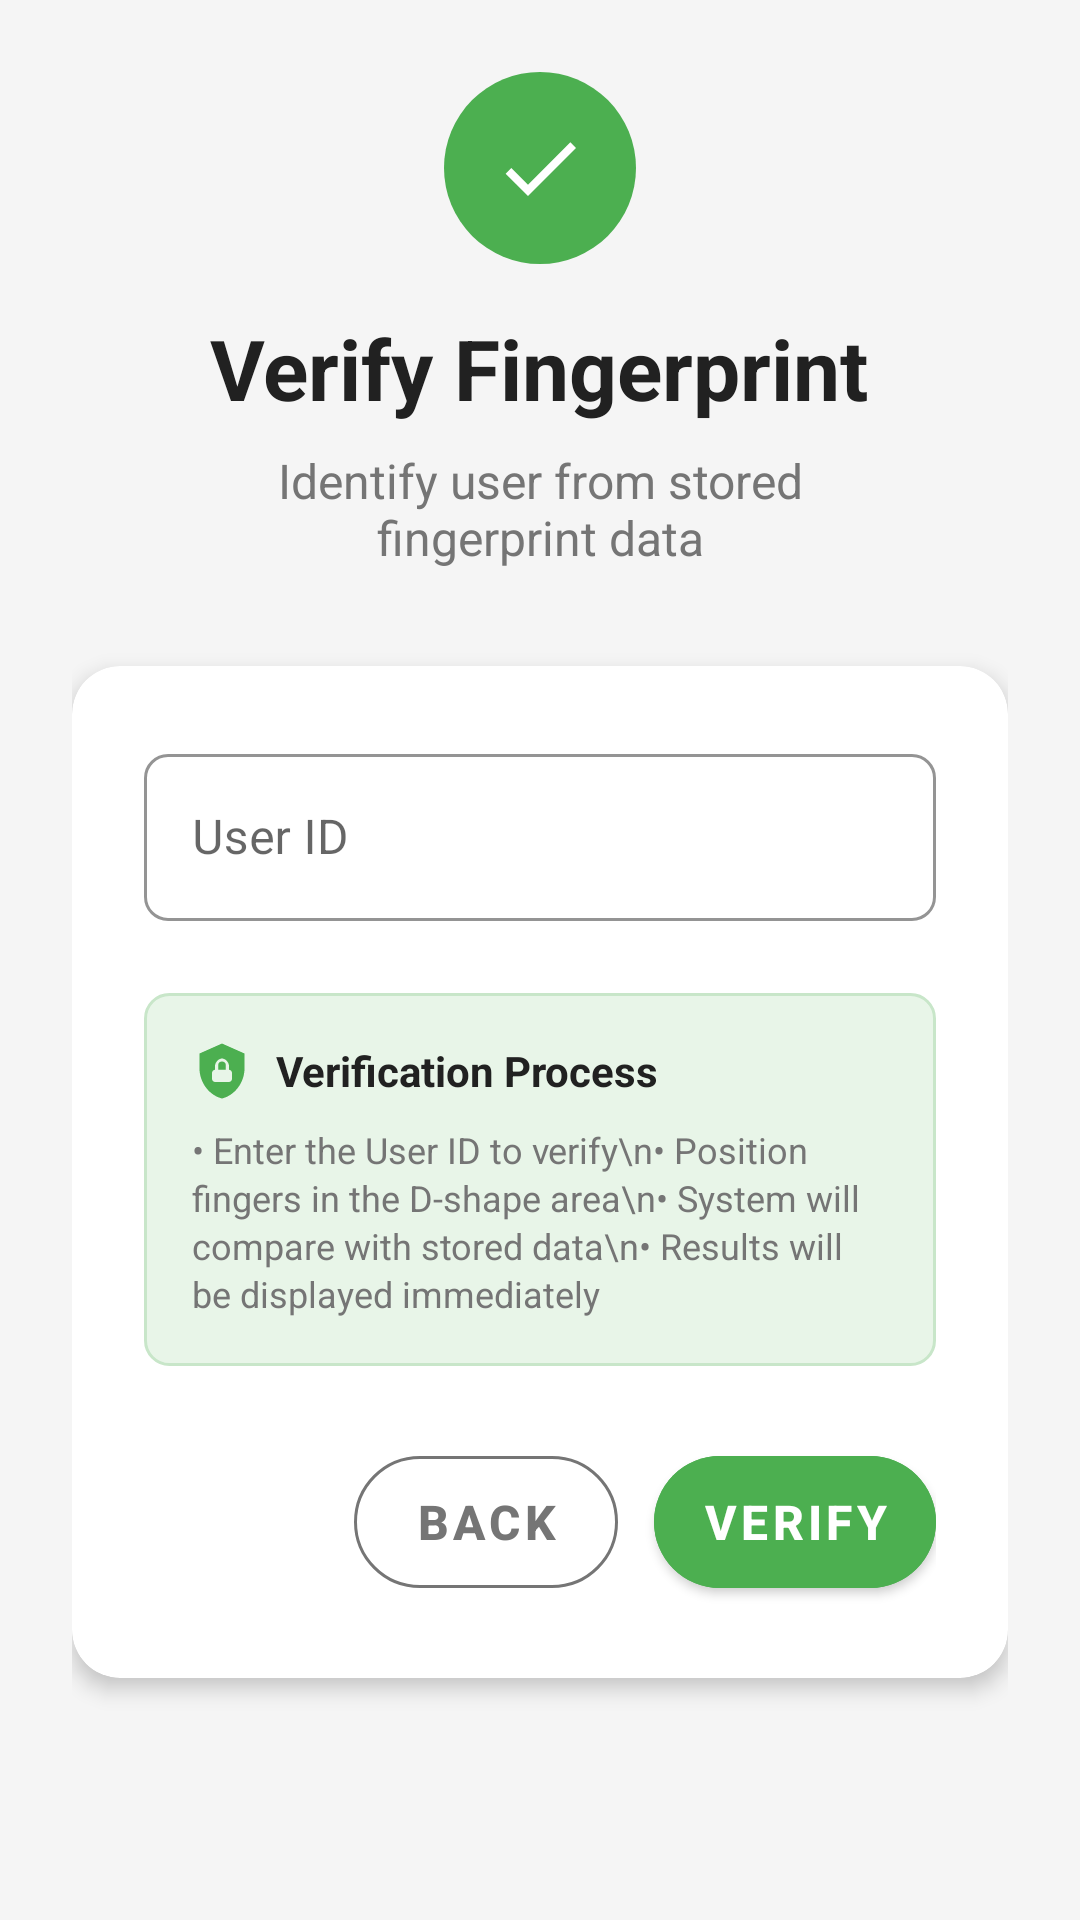

Named icons in this screenshot (1080x1920) and their bounding boxes, region(x1, y1, x2, y2):
security: region(199, 1043, 245, 1099)
